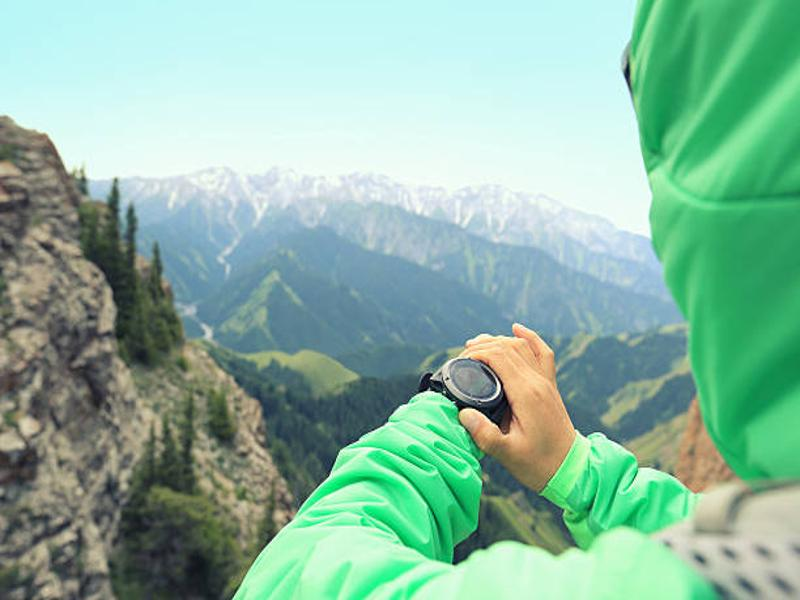watch: (415, 357, 505, 424)
